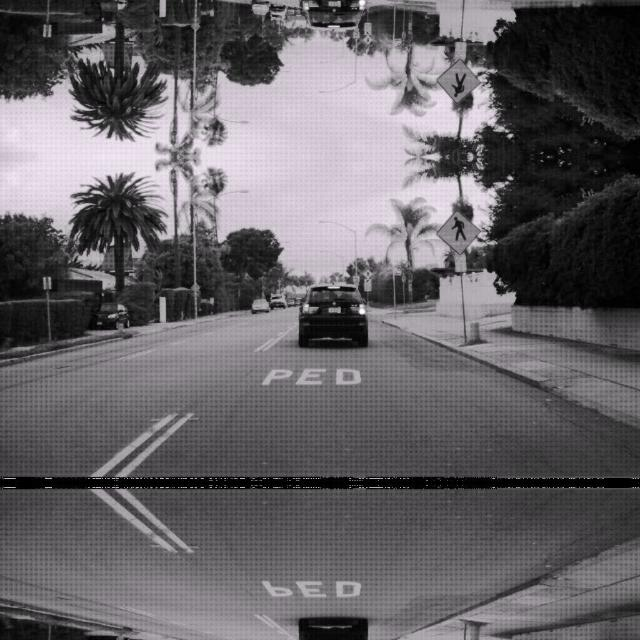pedestrianCrossing: (436, 208, 480, 254), (436, 58, 480, 104)
